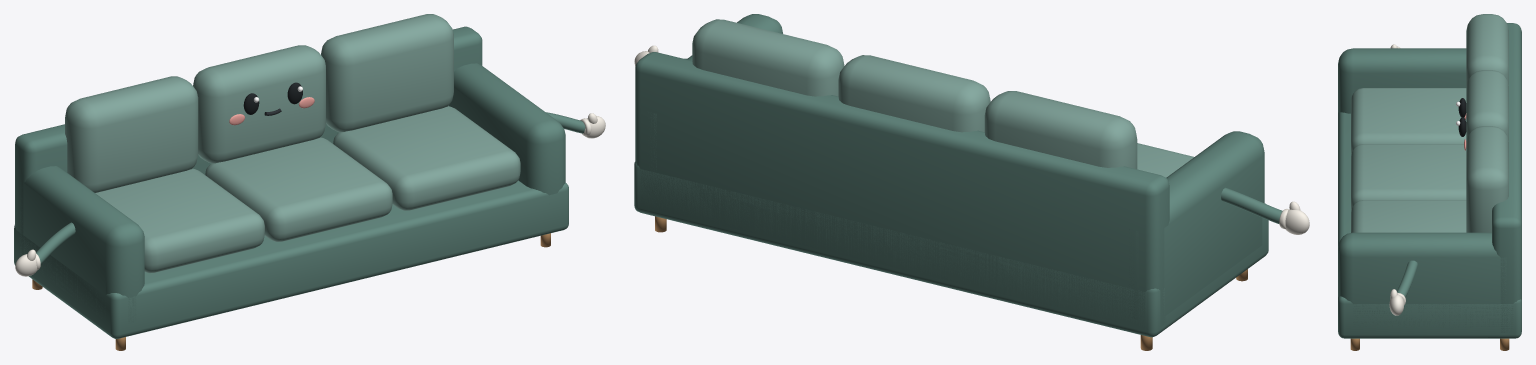
File: sofa-3.glb
3 views of the same model, side by side, from view 1: azimuth 30°, elevation 25°; view 2: azimuth 150°, elevation 25°; view 3: azimuth 270°, elevation 25° (orthographic). The views are drawn at different scales.
Visible parts, largest first — view 1: Upholstery.001, Arm_L.001, Arm_R.001; view 2: Upholstery.001, Arm_L.001; view 3: Upholstery.001, Arm_R.001, Legs.001.
Part boxes in pixels (x1=…): Upholstery.001: x1=14, y1=14, x2=568, y2=338; Arm_L.001: x1=15, y1=222, x2=75, y2=276; Arm_R.001: x1=546, y1=112, x2=605, y2=138; Upholstery.001: x1=634, y1=14, x2=1268, y2=337; Arm_L.001: x1=1221, y1=187, x2=1309, y2=234; Upholstery.001: x1=1338, y1=14, x2=1521, y2=338; Arm_R.001: x1=1389, y1=260, x2=1417, y2=315; Legs.001: x1=1350, y1=338, x2=1509, y2=350.
Bounding box in the file's own units: 2.86 × 0.85 × 0.86.
